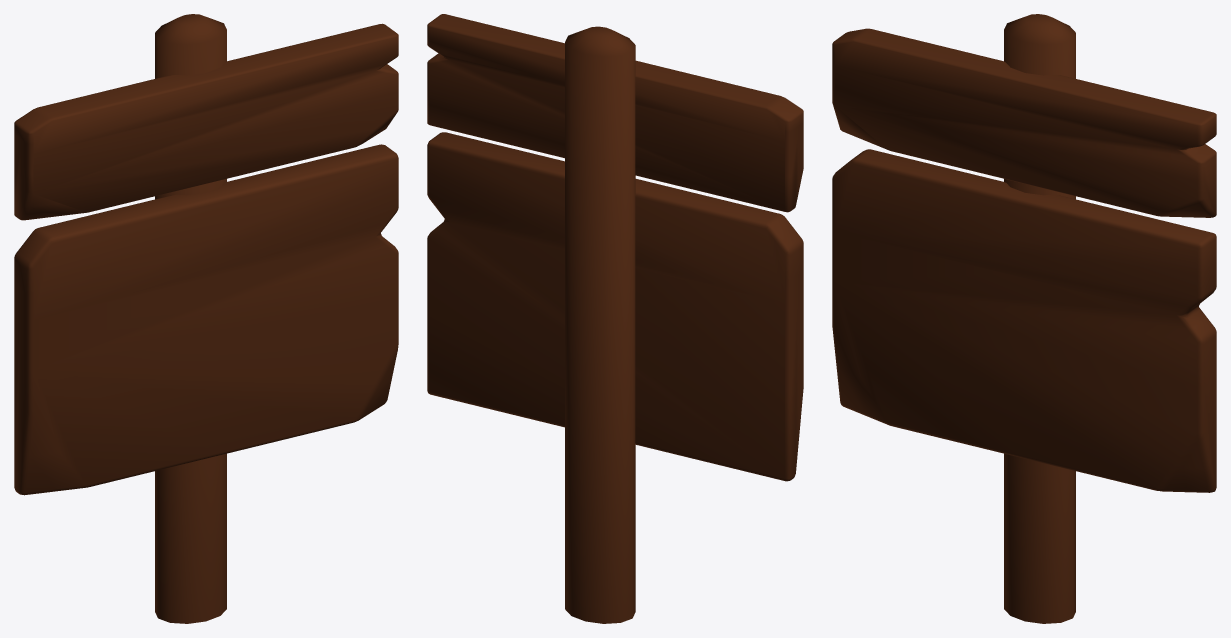
File: sign2.fbx
3 renders of one model, left to right at view 1: azimuth 30°, elevation 25°; view 2: azimuth 150°, elevation 25°; view 3: azimuth 330°, elevation 25°, orthographic. The views are drawn at different scales.
Parts seen in each view (by area): view 1: sign; view 2: sign; view 3: sign.
Boxes of the visible parts, bbox=[...] form: sign: bbox=[14, 14, 398, 623]; sign: bbox=[427, 14, 803, 623]; sign: bbox=[832, 14, 1216, 623].
Bounding box in the file's own units: 0.4111 × 0.6247 × 0.0748.
